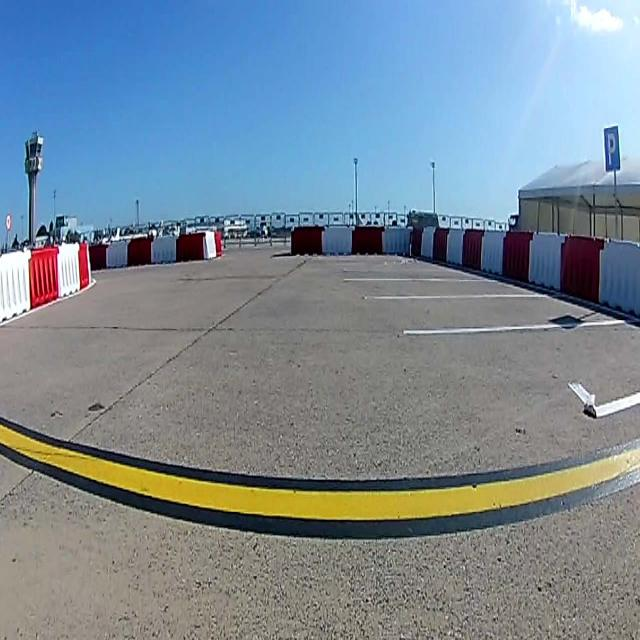park: (602, 126, 620, 172)
